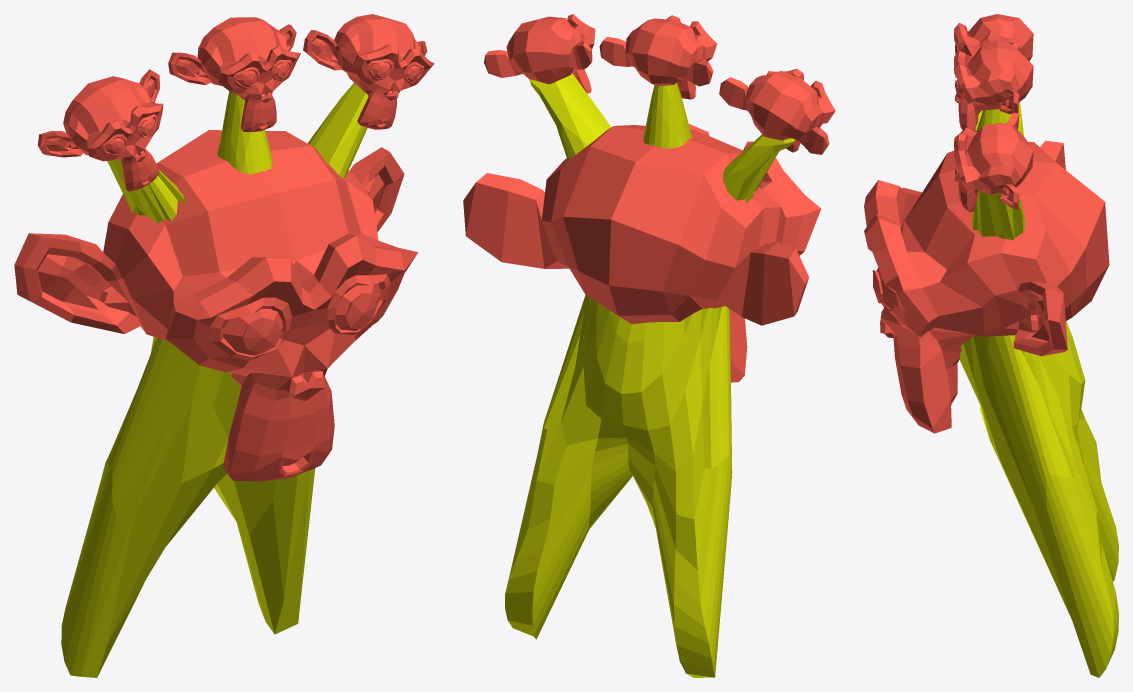
The picture shows the model from 3 angles, left to right: view 1: azimuth 30°, elevation 25°; view 2: azimuth 150°, elevation 25°; view 3: azimuth 270°, elevation 25°; orthographic projection. The views are drawn at different scales.
Parts seen in each view (by area): view 1: Suzanne.003, Cube, Suzanne.001, Suzanne, Suzanne.002; view 2: Cube, Suzanne.003, Suzanne.001, Suzanne, Suzanne.002; view 3: Suzanne.003, Cube, Suzanne.002, Suzanne, Suzanne.001.
Boxes of the visible parts, x1,y1,x2,y2 form: Suzanne.003: [14, 130, 417, 481]; Cube: [61, 83, 368, 677]; Suzanne.001: [37, 69, 163, 191]; Suzanne: [168, 17, 300, 132]; Suzanne.002: [303, 14, 434, 129]; Cube: [505, 73, 795, 677]; Suzanne.003: [463, 124, 821, 382]; Suzanne.001: [719, 68, 835, 154]; Suzanne: [599, 15, 717, 99]; Suzanne.002: [484, 14, 595, 93]; Suzanne.003: [864, 140, 1109, 433]; Cube: [959, 102, 1118, 677]; Suzanne.002: [954, 112, 1033, 212]; Suzanne: [954, 41, 1033, 130]; Suzanne.001: [954, 14, 1033, 61].
Size of the model in its own units: 8.34 by 13.88 by 5.45.
